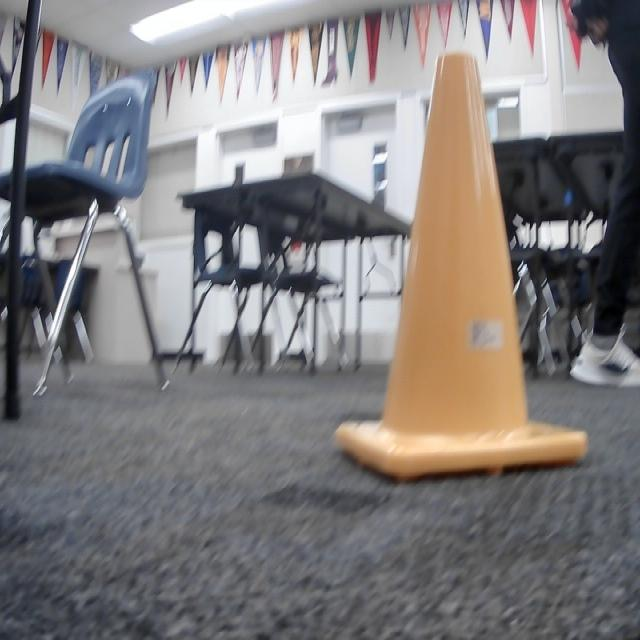cone: (336, 49, 591, 479)
